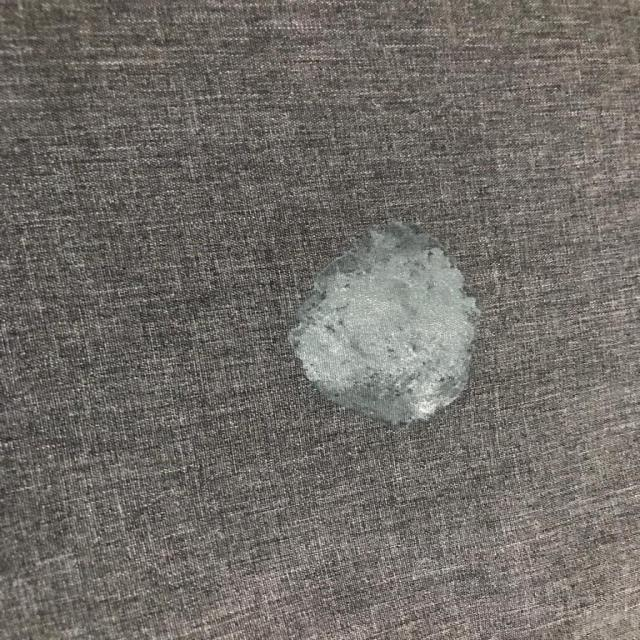Stain: (289, 221, 480, 426)
